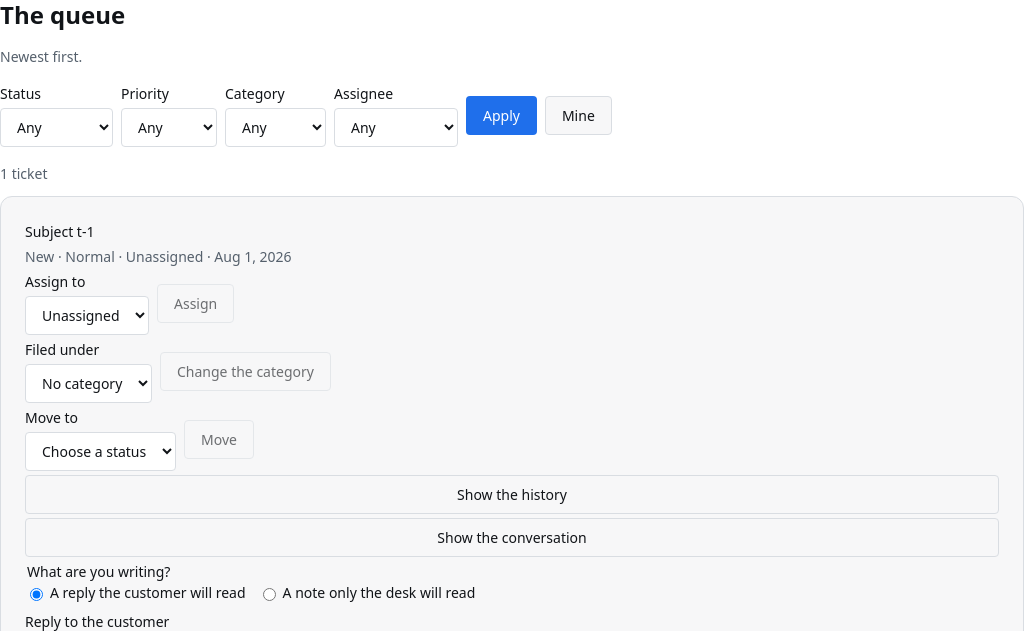
it: any other refusal is reported without pretending it was a conflict
Check: the text "Subject t-1" is shown, box [25,222,94,241]
Select "Billing" in the dropdown labelled "Filed under" at (88, 384), box [25,364,152,403]
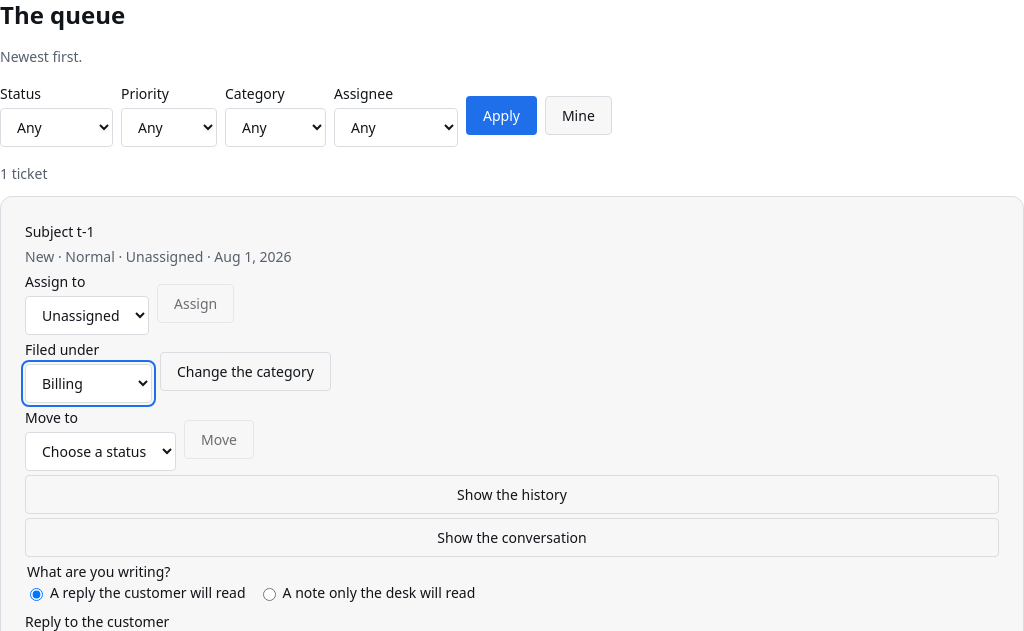
Click the button "Change the category" at (245, 371), box [160,352,331,390]
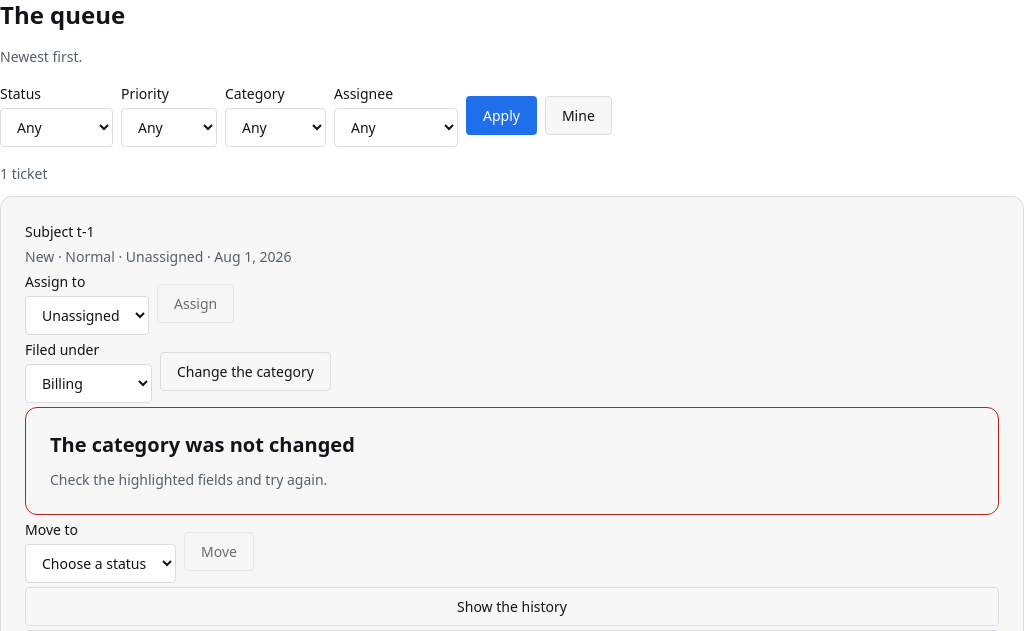
Check: the heading "The category was not changed" is shown, box [50,431,355,458]
Check: the text "Check the highlighted fields and try again." is shown, box [50,470,327,489]
